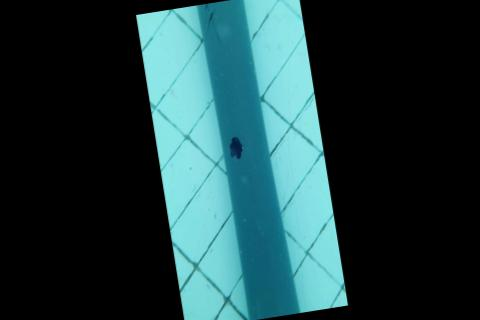kebocoran: (226, 134, 245, 162)
keretakan: (202, 2, 221, 46)
